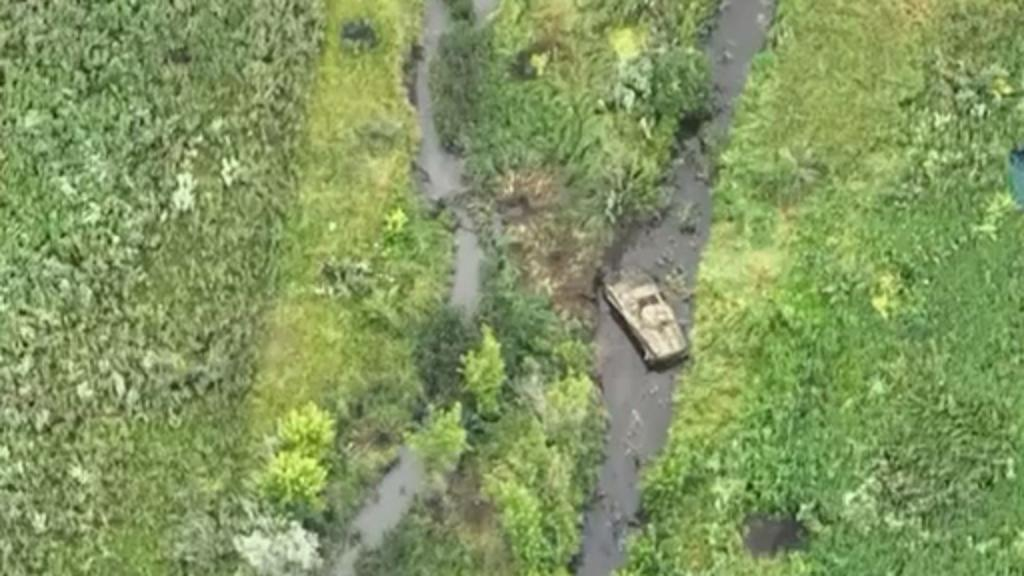APC-IFV: (600, 260, 692, 370)
